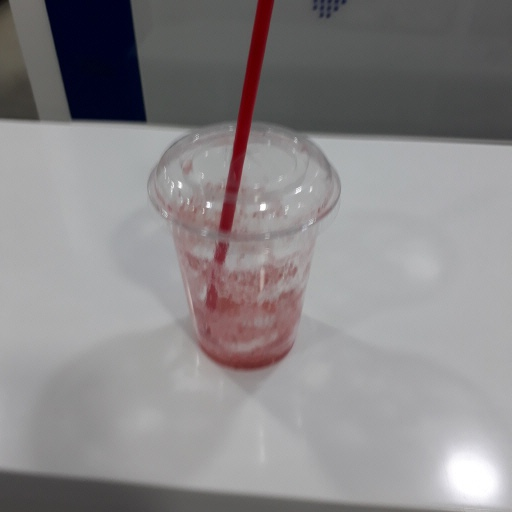Plastic_2: (149, 1, 340, 371)
